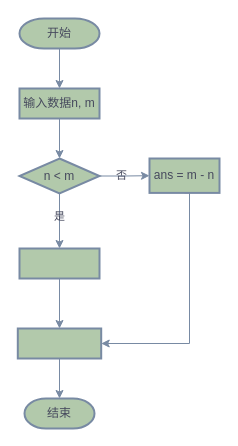
Image size: 238x446. Some labels were removed from this diagram. Here are the shapes that lost their labels. From the top down, the box of each, then its label:
(18, 247, 100, 279): ans = n - m
(16, 327, 102, 359): 输出ans
